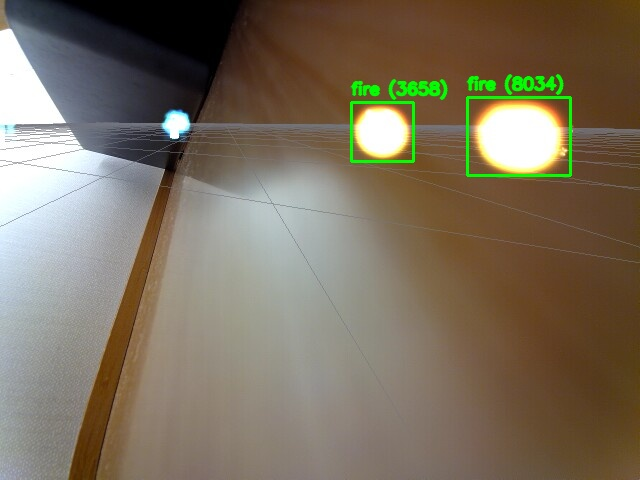fire: (467, 97, 570, 175), (351, 102, 413, 161)
